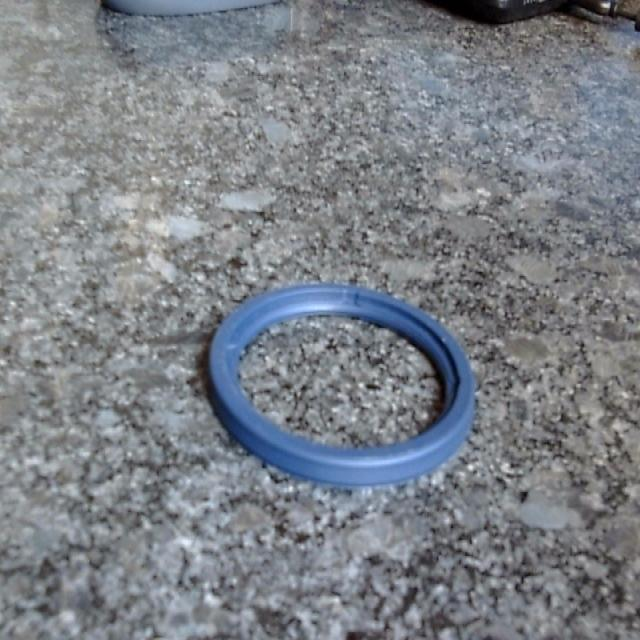cobalt-blue-ring: (210, 283, 474, 487)
